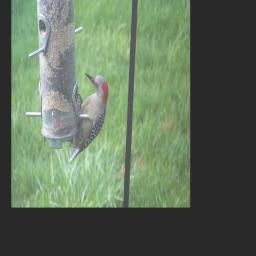Woodpecker: (68, 73, 108, 165)
